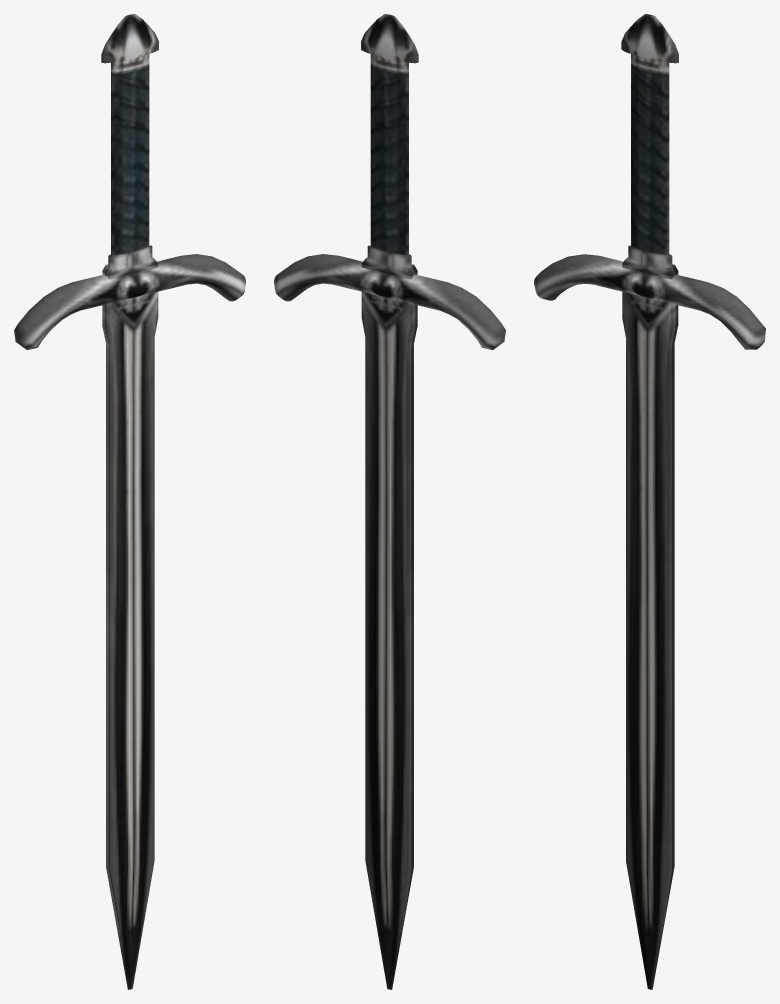
File: sword.dae
3 renders of one model, left to right at view 1: azimuth 30°, elevation 25°; view 2: azimuth 150°, elevation 25°; view 3: azimuth 330°, elevation 25°, orthographic.
Parts seen in each view (by area): view 1: Cube; view 2: Cube; view 3: Cube.
Part boxes in pixels (x1,y1,x2,y2): Cube: (14, 14, 245, 989); Cube: (274, 14, 505, 989); Cube: (534, 14, 765, 989).
Size of the model in its own units: 1.9 by 0.2163 by 7.77.
Materials: 1 (1 with a texture image).
